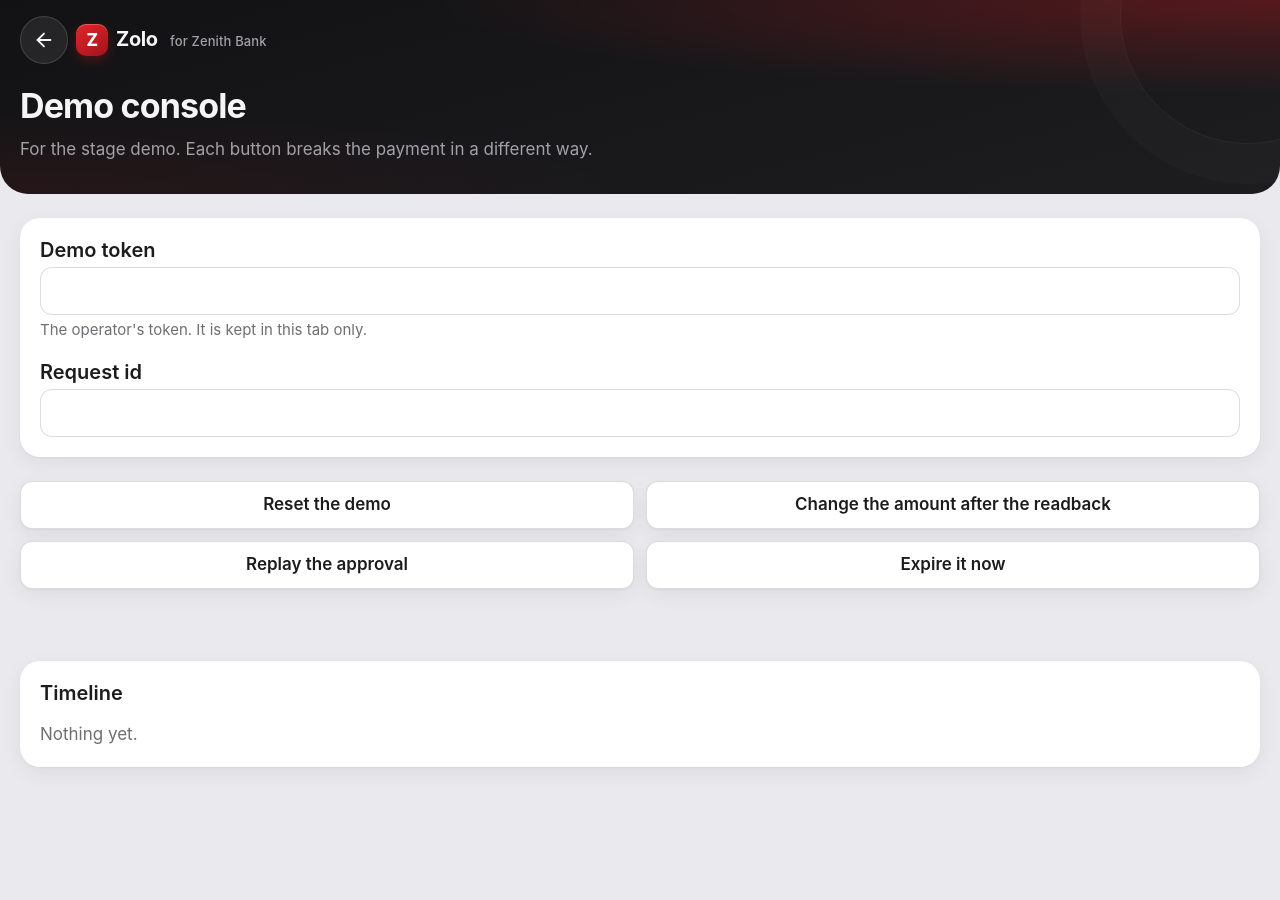
Scenario: Demo console › asks for the token first
Click the button "Expire it now" at (953, 565), box [646,541,1260,589]
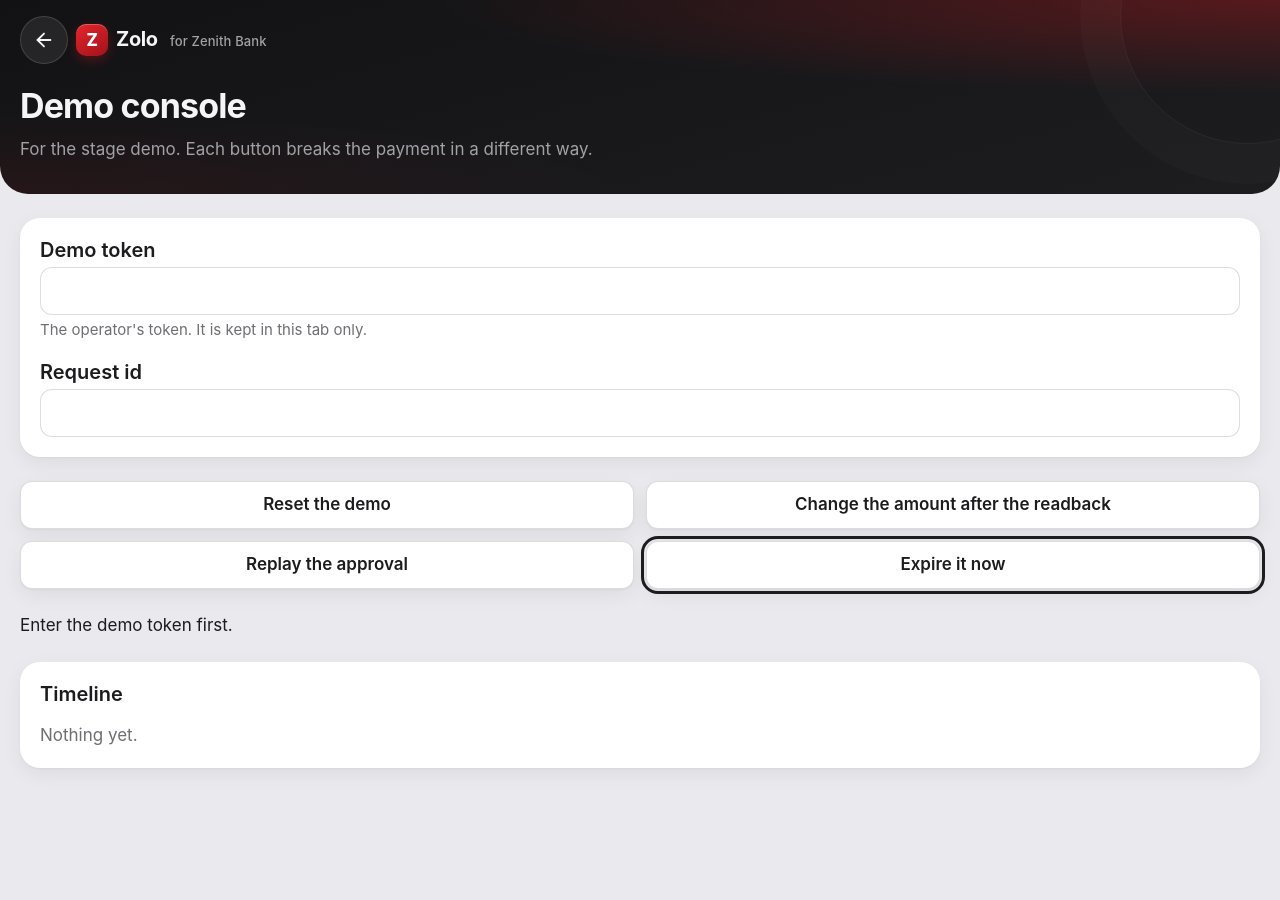
Expected: the text with test id "demo-message" reads "Enter the demo token first.", [20,615,233,635]
